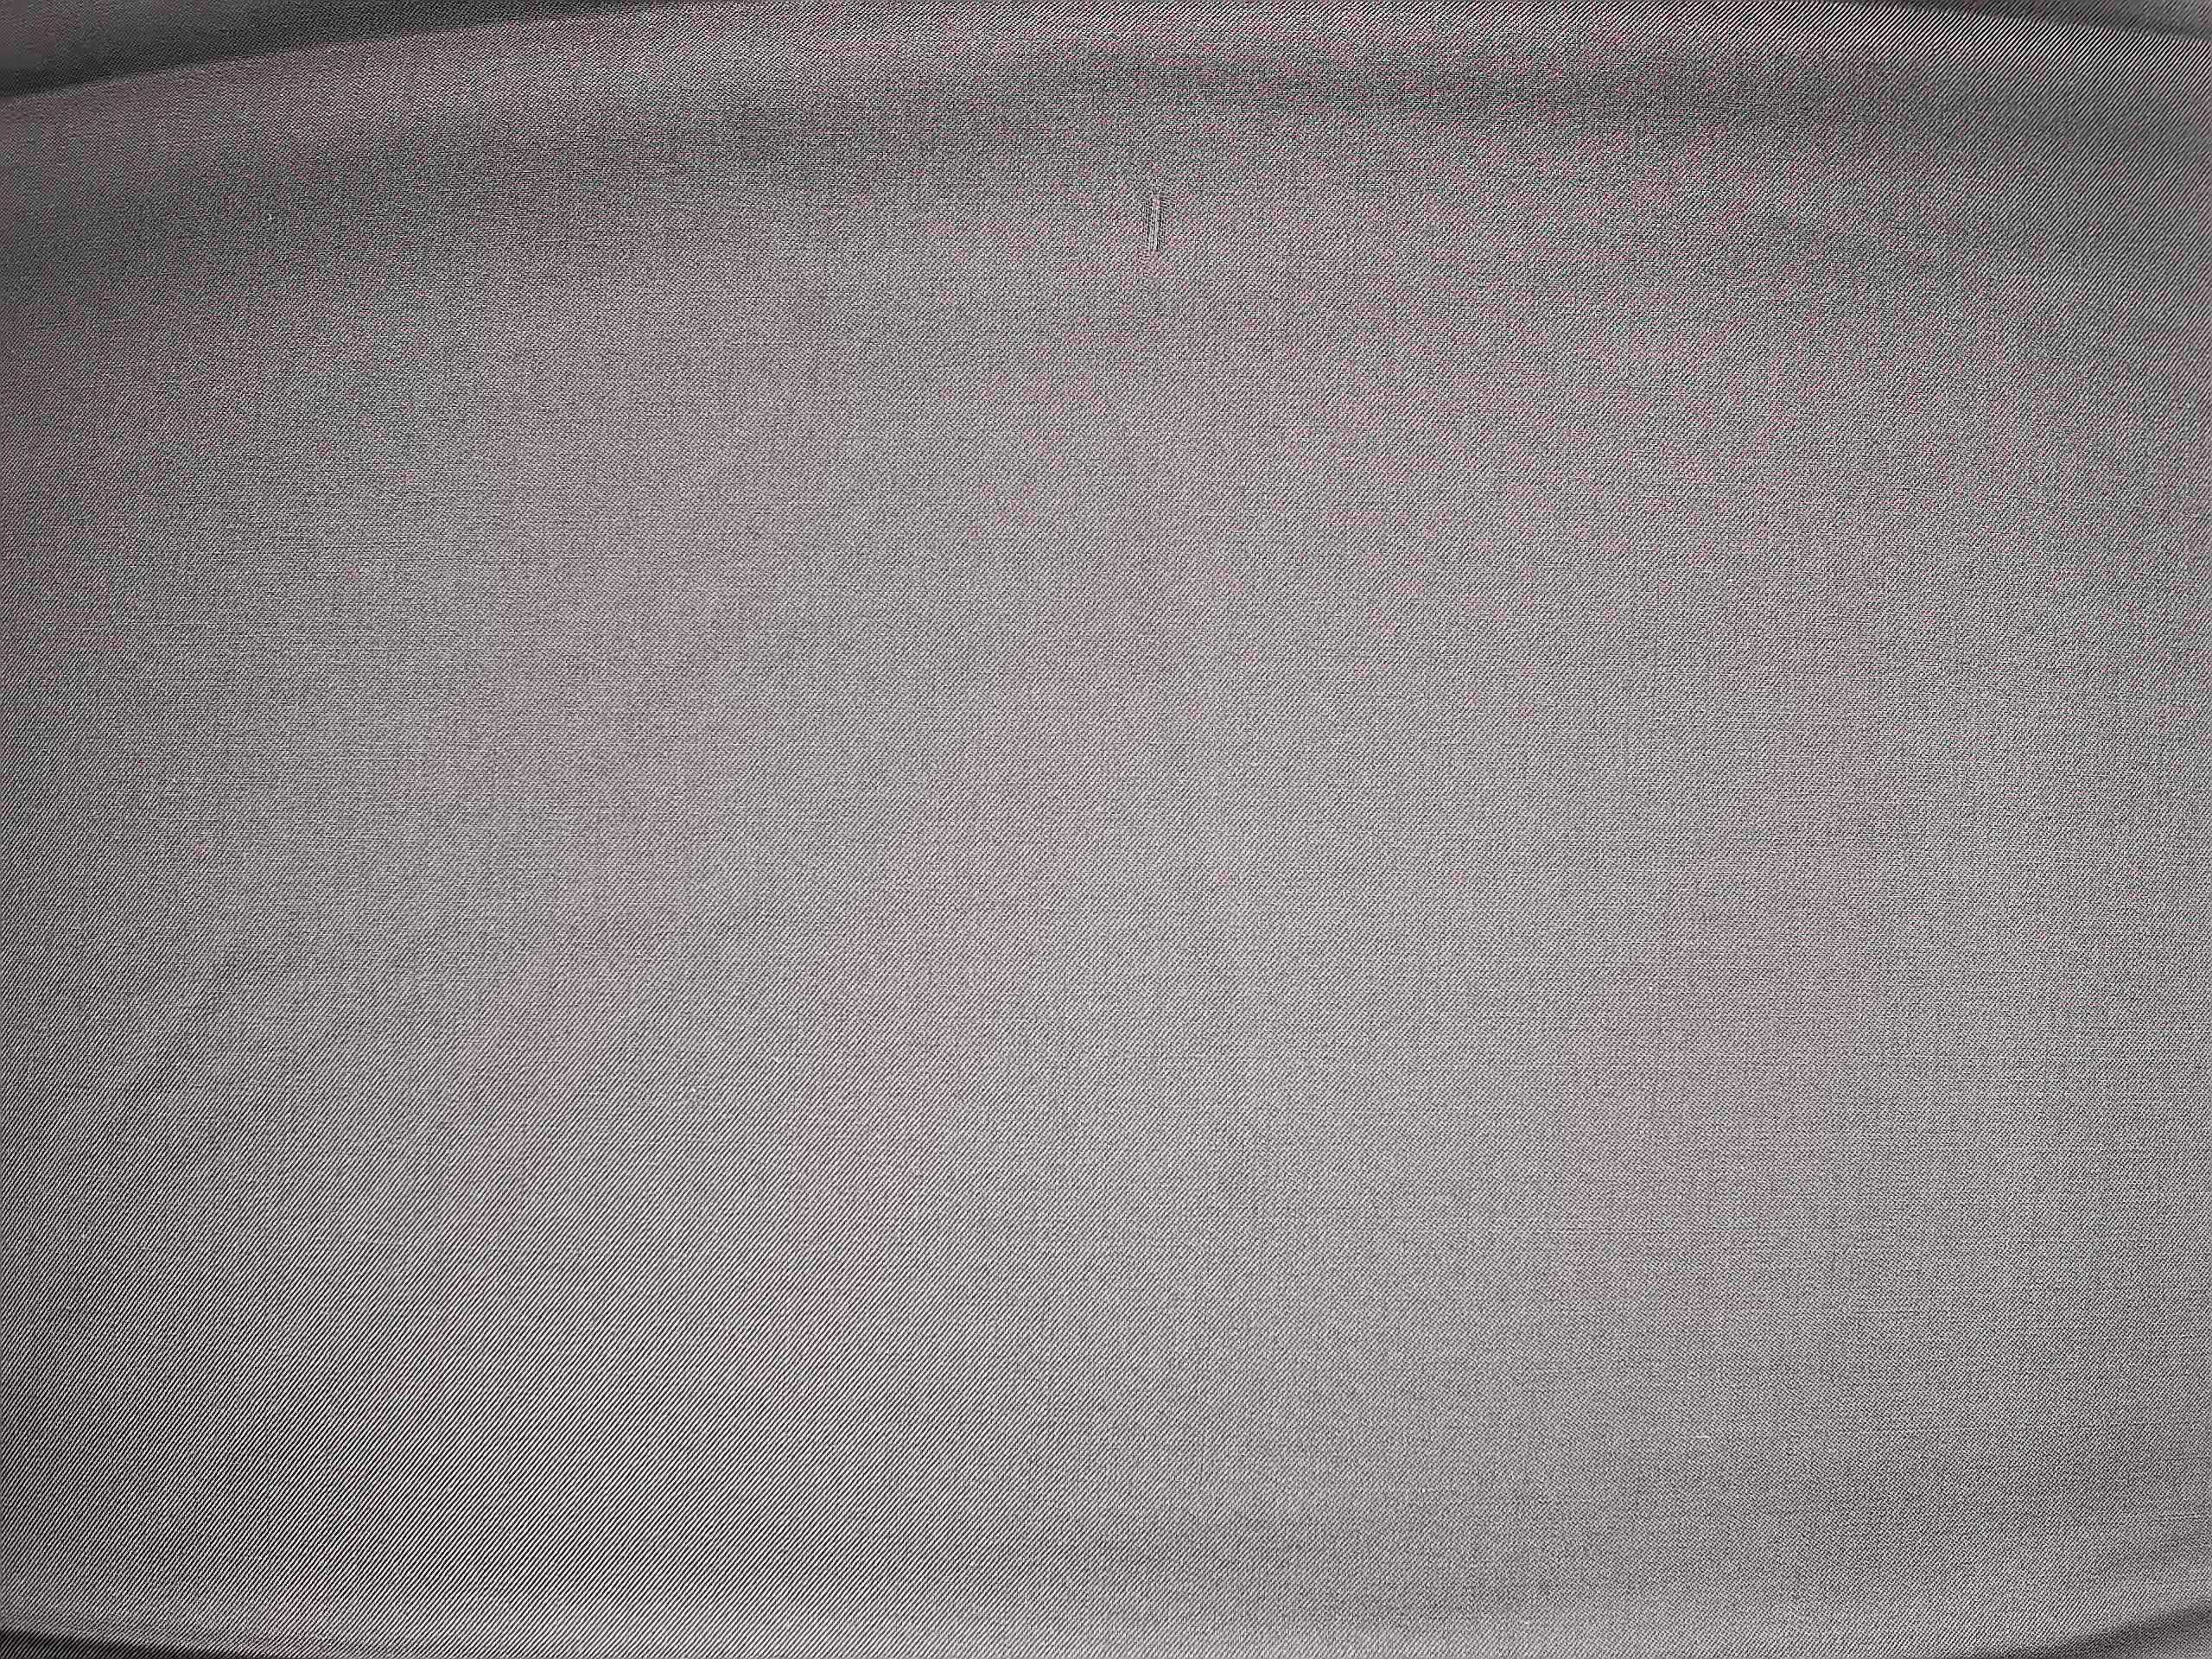jumps: (1128, 166, 1180, 264)
